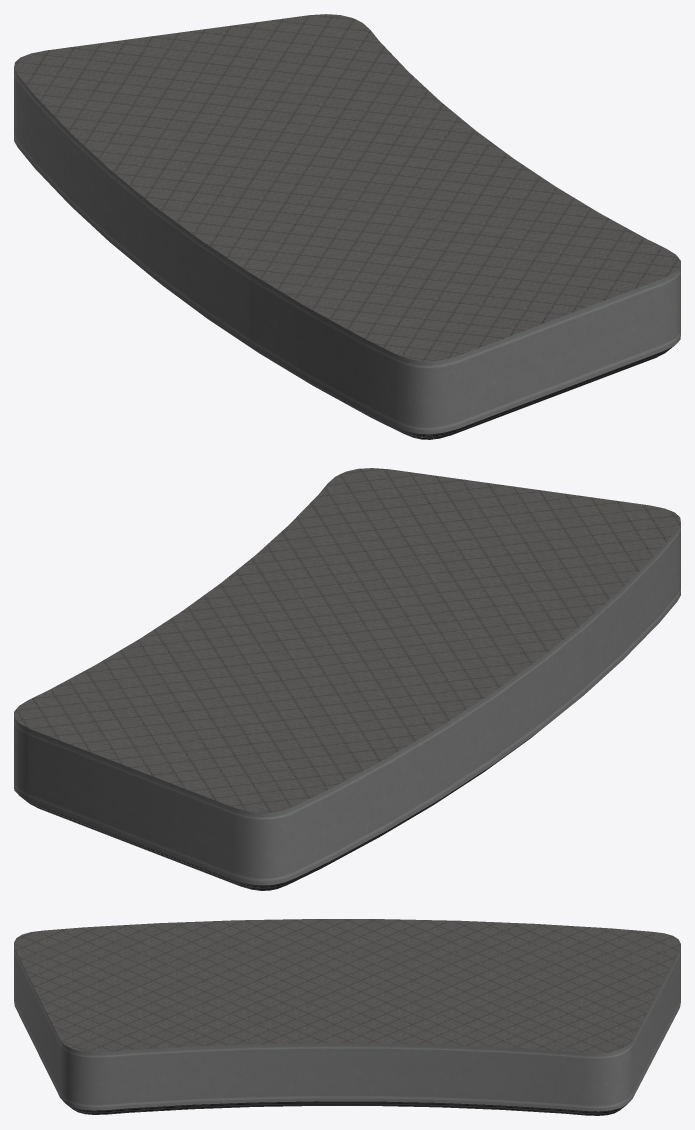
Rendered from Club_VIPFloor_01.FBX.
The picture shows the model from 3 angles, top to bottom: view 1: azimuth 30°, elevation 25°; view 2: azimuth 150°, elevation 25°; view 3: azimuth 270°, elevation 25°; orthographic projection. The views are drawn at different scales.
Parts seen in each view (by area): view 1: Club_VIPFloor_01; view 2: Club_VIPFloor_01; view 3: Club_VIPFloor_01.
Part boxes in pixels (left/top/right/bottom): Club_VIPFloor_01: left=14, top=14, right=680, bottom=439; Club_VIPFloor_01: left=14, top=468, right=680, bottom=890; Club_VIPFloor_01: left=14, top=919, right=680, bottom=1115.
Size of the model in its own units: 8.65 by 2 by 18.16.
